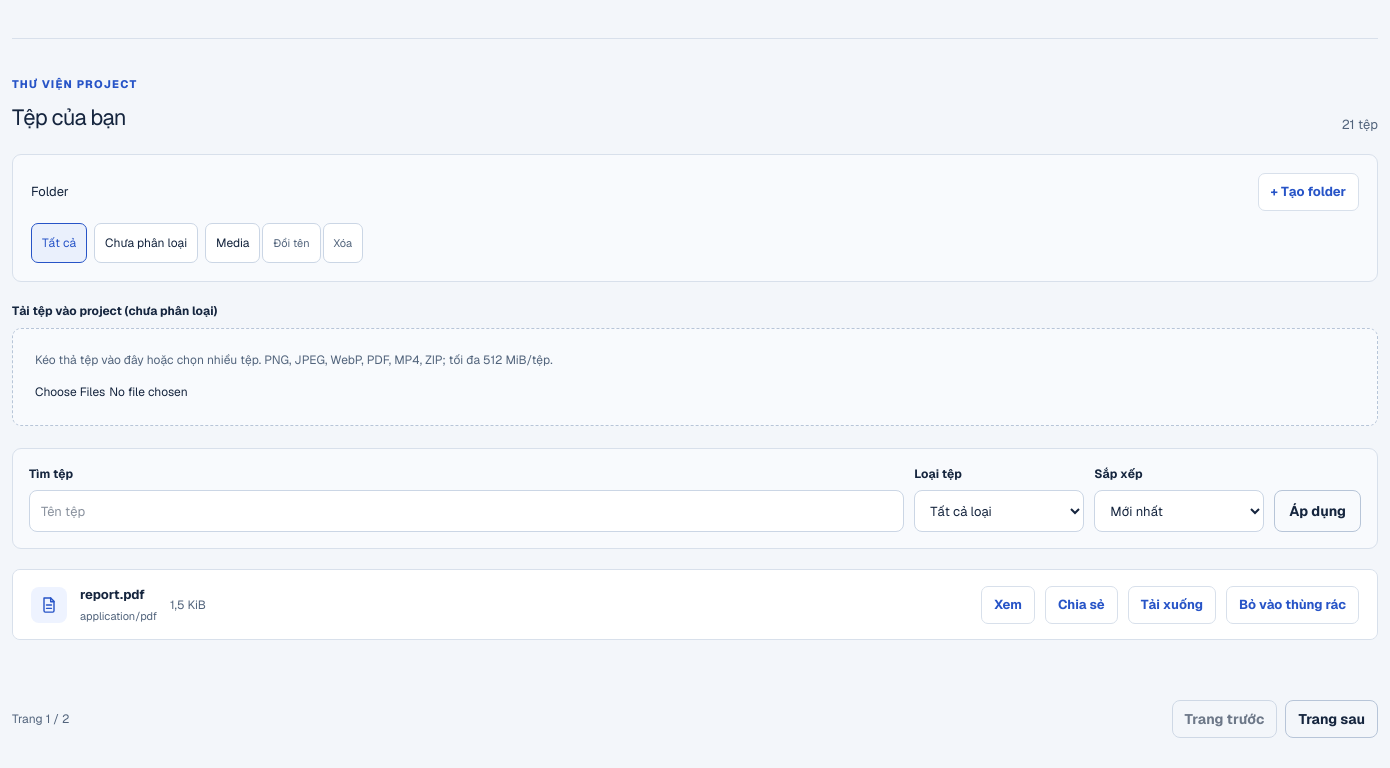
Test case: FileExplorer › resets to page one when selecting a folder
The width and height of the screenshot is (1390, 768).
Later steps or results of the test are not shown.
Expected: the text "report.pdf" is shown, [80,586,145,603]
Click the button "Trang sau" at (1332, 719), box [1285,700,1378,738]
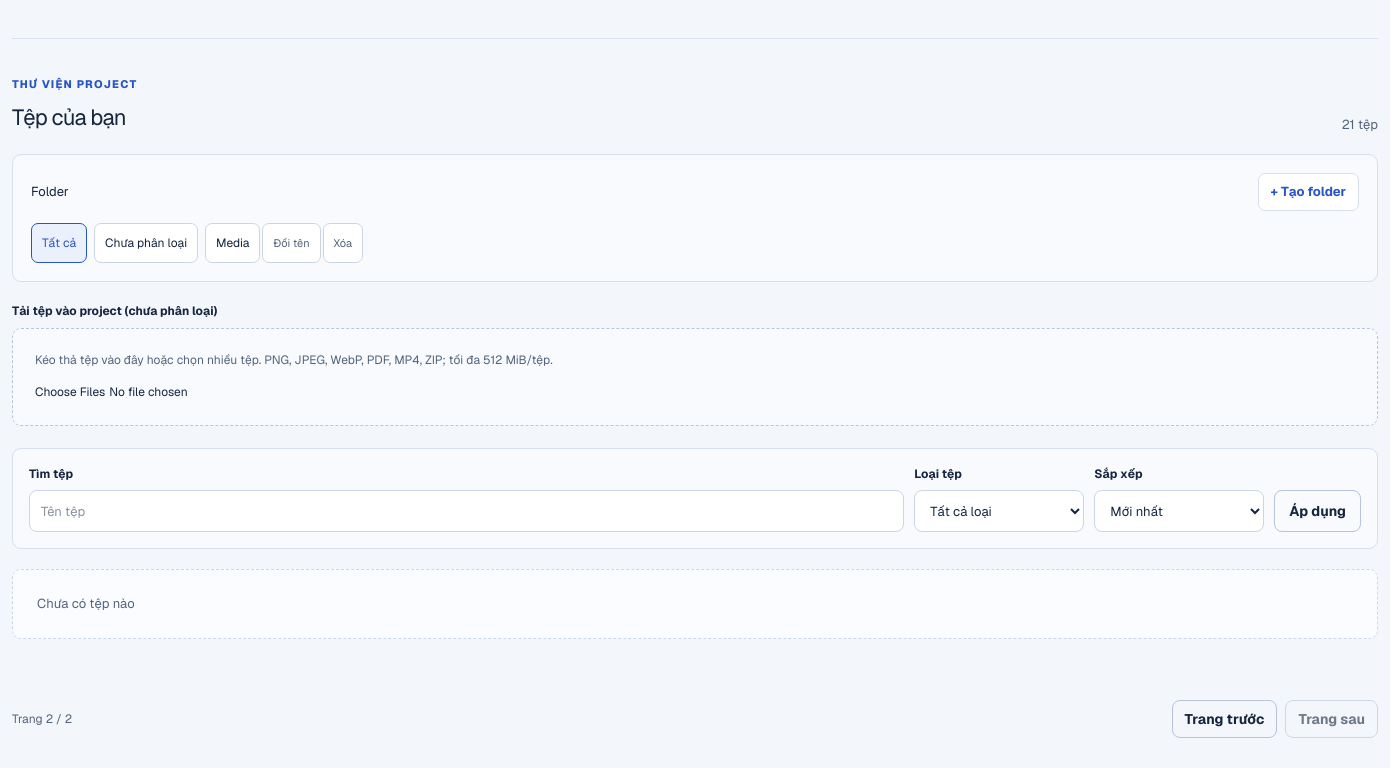
Now the text "Trang 2 / 2" is shown, box [12,710,72,728]
